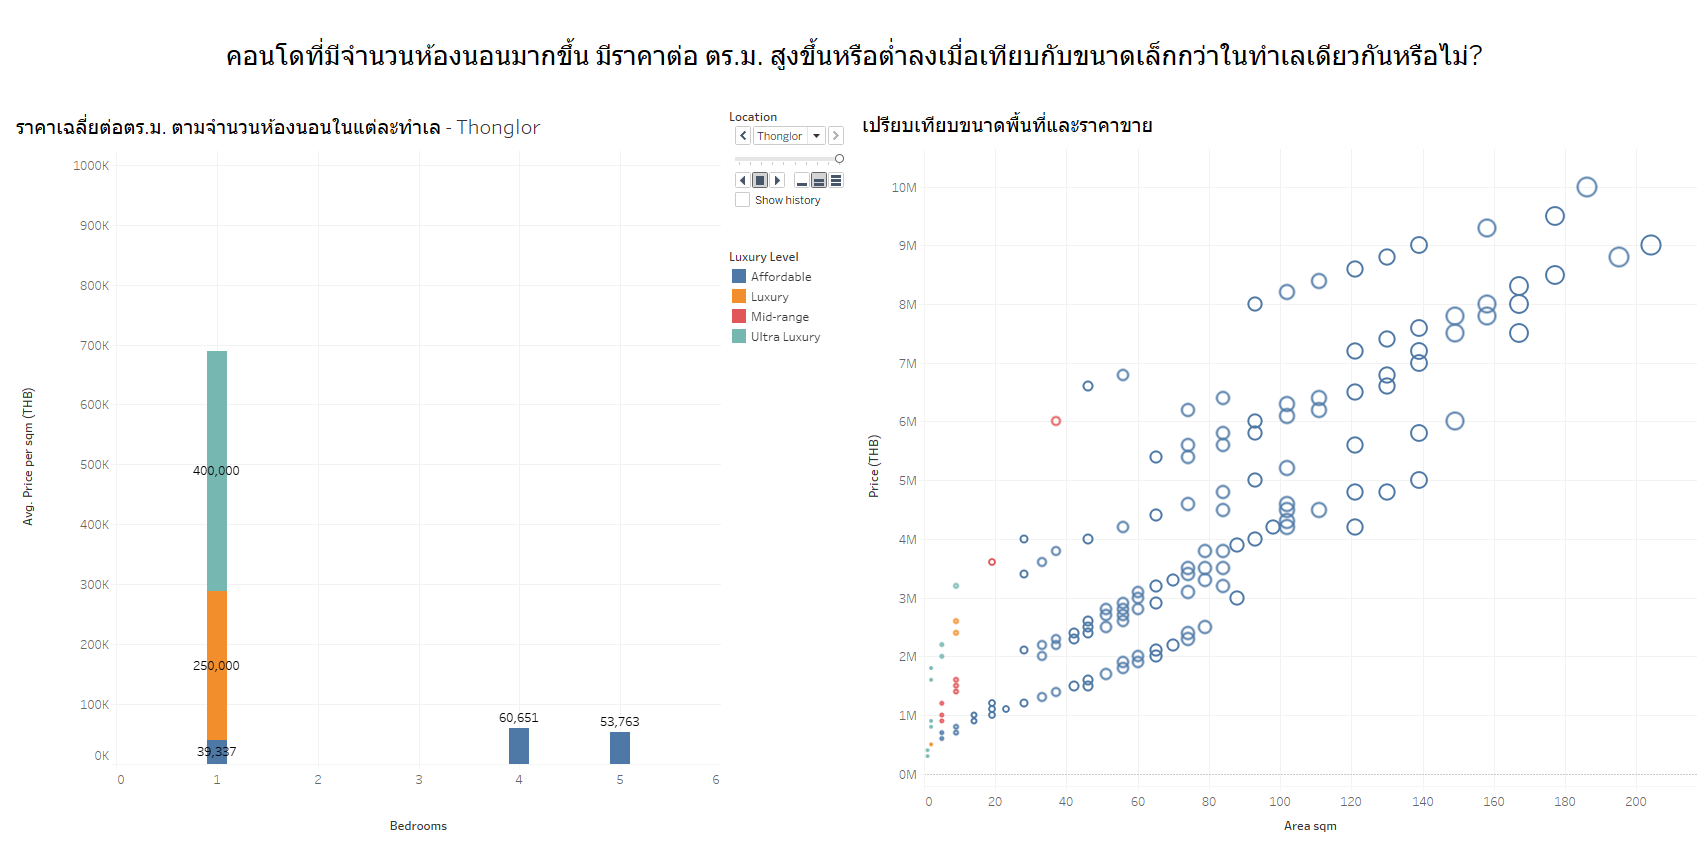

What the dashboard file says about the page in this screenshot:
{"tool":"tableau","page":{"name":"Dashboard 2","canvas":[1000,1000],"units":"permille","ordinal":1},"visuals":[{"type":"text","box":[4.7,9.3,990.6,115.7]},{"type":"worksheet","title":"Sheet 11","mark":"Bar","rows":["Price_per_sqm"],"cols":["Bedrooms"],"box":[4.7,125,419.6,865.6]},{"type":"currpage","title":"Sheet 11","box":[424.2,125,75.5,163.6]},{"type":"worksheet","title":"Sheet 6","mark":"Automatic","rows":["Price (THB)"],"cols":["Area_sqm"],"box":[499.7,125,495.6,865.6]},{"type":"legend","title":"Sheet 6","param":"[federated.0smkluf1eae07r1cl8knq0y6slhe].[none:Luxury_Level:nk]","box":[424.2,288.6,75.5,156.6]}]}

Visuals, with their boxes on the dashboard's canvas, which has no fixed pixel size, in thousandths of its width and height (x1, y1, x2, y2). These are canvas units, not pixel positions in the 1705x851 screenshot, which may show the page scaled, cropped or inside an application window:
text: bbox=(5, 9, 995, 125)
"Sheet 11" worksheet (Bar marks): bbox=(5, 125, 424, 991)
"Sheet 11" currpage: bbox=(424, 125, 500, 289)
"Sheet 6" worksheet: bbox=(500, 125, 995, 991)
"Sheet 6" legend: bbox=(424, 289, 500, 445)
